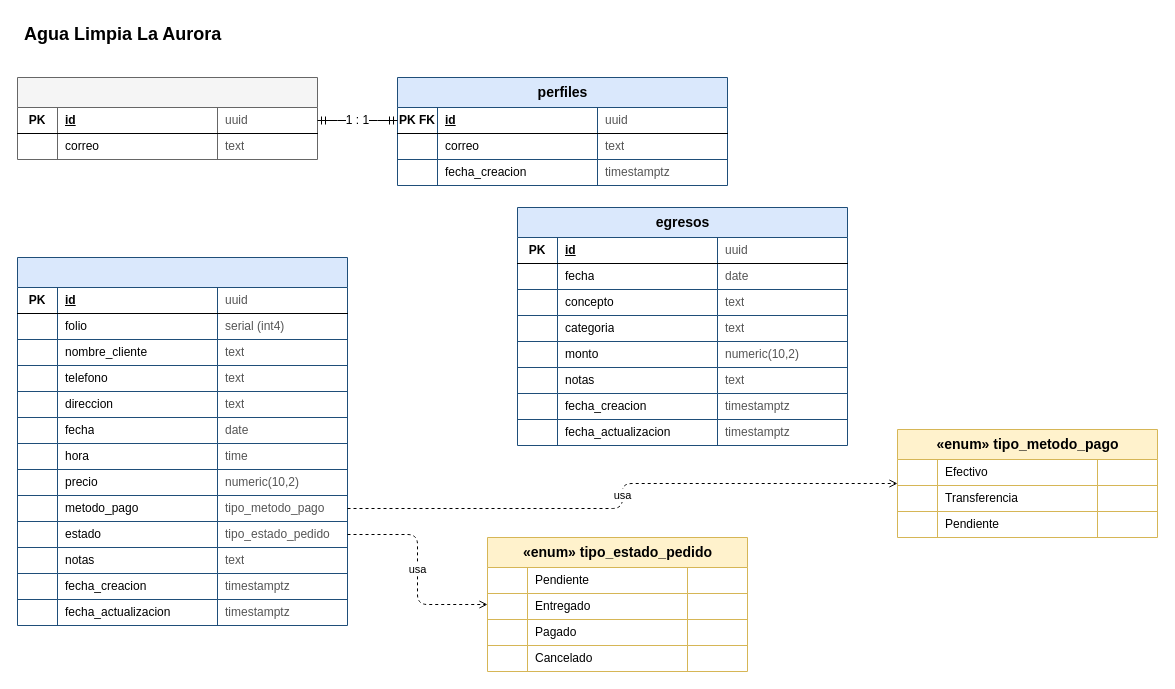
Image size: 1175x689. Some labels were removed from this diagram. Each missing label, with the box of its shape:
pedidos: (16, 256, 348, 626)
usuarios (auth.users): (16, 76, 318, 160)
